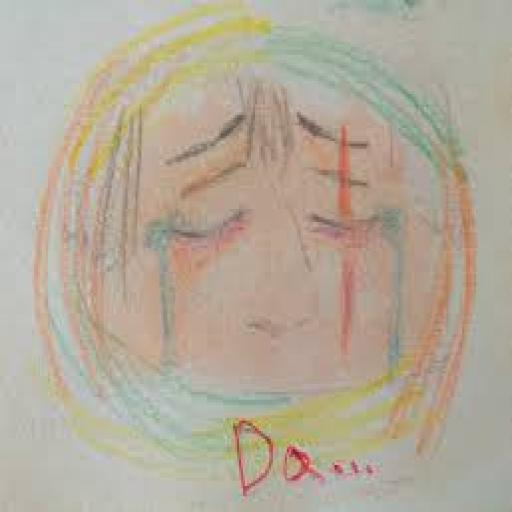person: (29, 0, 487, 509)
